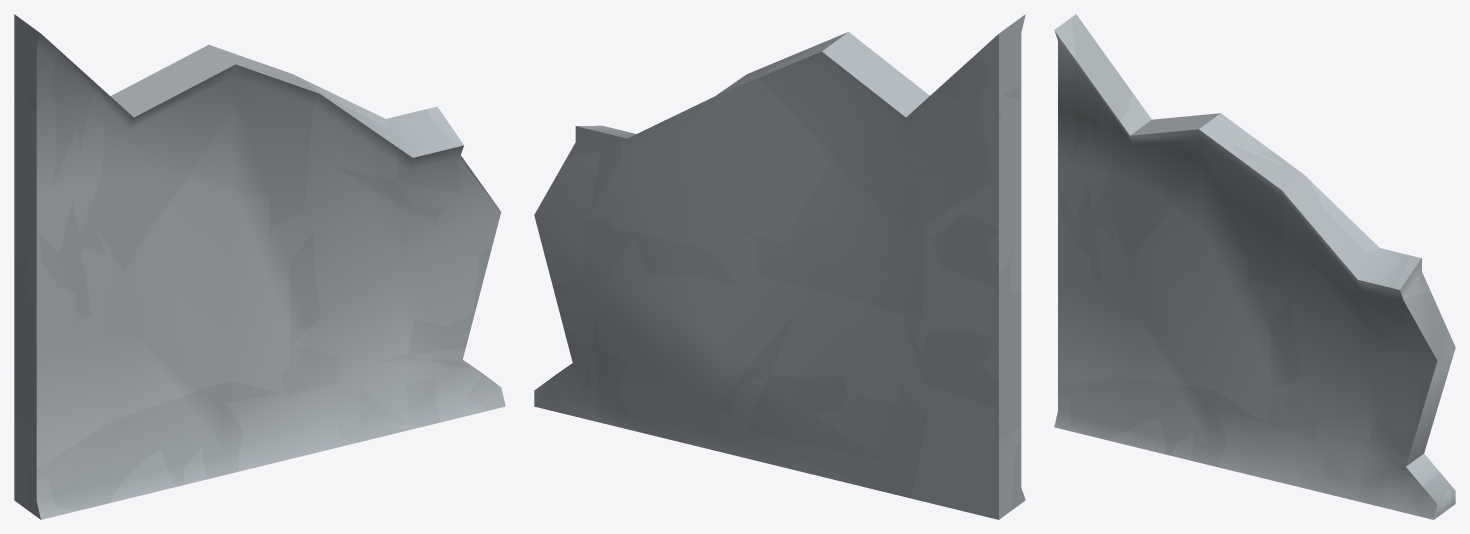
The model's file is Wall_1_Destroyed_1.glb.
The picture shows the model from 3 angles, left to right: view 1: azimuth 30°, elevation 25°; view 2: azimuth 150°, elevation 25°; view 3: azimuth 330°, elevation 25°; orthographic projection. The views are drawn at different scales.
Visible parts, largest first — view 1: Wall_1_Destroyed_1; view 2: Wall_1_Destroyed_1; view 3: Wall_1_Destroyed_1.
Boxes of the visible parts, box(x1,y1,x2,y2) form: Wall_1_Destroyed_1: box(14, 14, 505, 519); Wall_1_Destroyed_1: box(534, 14, 1025, 519); Wall_1_Destroyed_1: box(1054, 14, 1455, 519).
Size of the model in its own units: 2 by 2 by 0.3223.
Materials: 1 (1 with a texture image).
